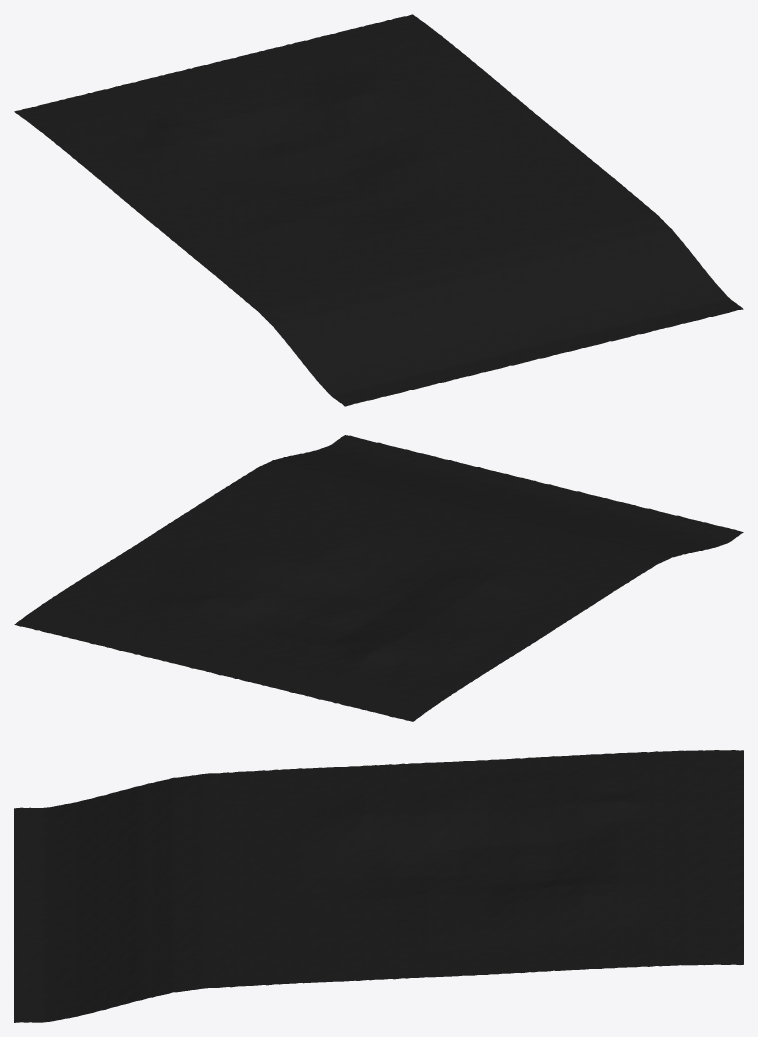
The model's file is Syntymisalusta.fbx.
3 views of the same model, one above another, from view 1: azimuth 30°, elevation 25°; view 2: azimuth 150°, elevation 25°; view 3: azimuth 270°, elevation 25° (orthographic). The views are drawn at different scales.
Visible parts, largest first — view 1: Syntymisalusta; view 2: Syntymisalusta; view 3: Syntymisalusta.
Part boxes in pixels (x1,y1,x2,y2): Syntymisalusta: [14, 14, 743, 406]; Syntymisalusta: [14, 435, 743, 721]; Syntymisalusta: [14, 750, 743, 1022].
Size of the model in its own units: 5000 by 667 by 7188.
